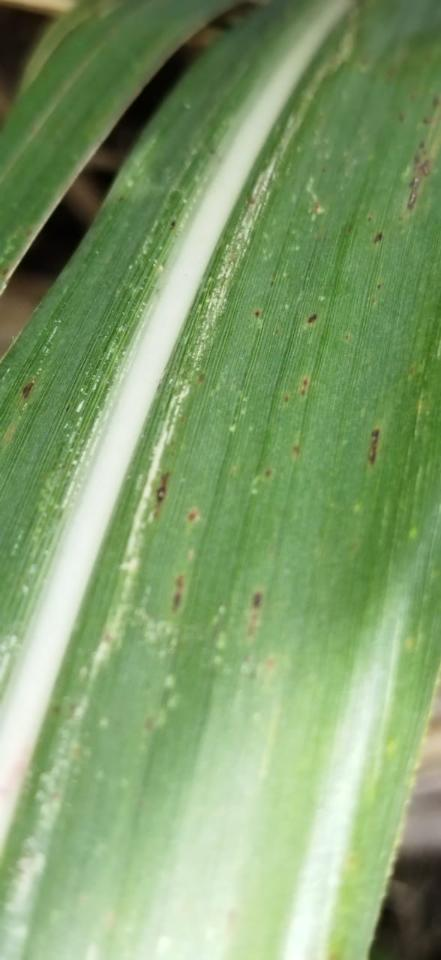Rust: (245, 589, 264, 638), (154, 470, 170, 521), (169, 574, 186, 612), (366, 427, 380, 468), (405, 175, 420, 211), (418, 159, 432, 177), (23, 382, 34, 398), (186, 510, 198, 524), (292, 445, 303, 458), (307, 312, 318, 324), (373, 232, 383, 244), (264, 468, 274, 478), (313, 202, 322, 213), (198, 373, 205, 385), (431, 97, 440, 106), (398, 113, 406, 122), (413, 155, 420, 165), (254, 309, 261, 318), (418, 141, 425, 149), (169, 222, 177, 229), (421, 119, 430, 125), (302, 378, 308, 387), (422, 149, 428, 156), (273, 328, 279, 335), (344, 334, 350, 341), (301, 390, 306, 398), (367, 216, 373, 222), (377, 283, 381, 290), (284, 396, 288, 403)
